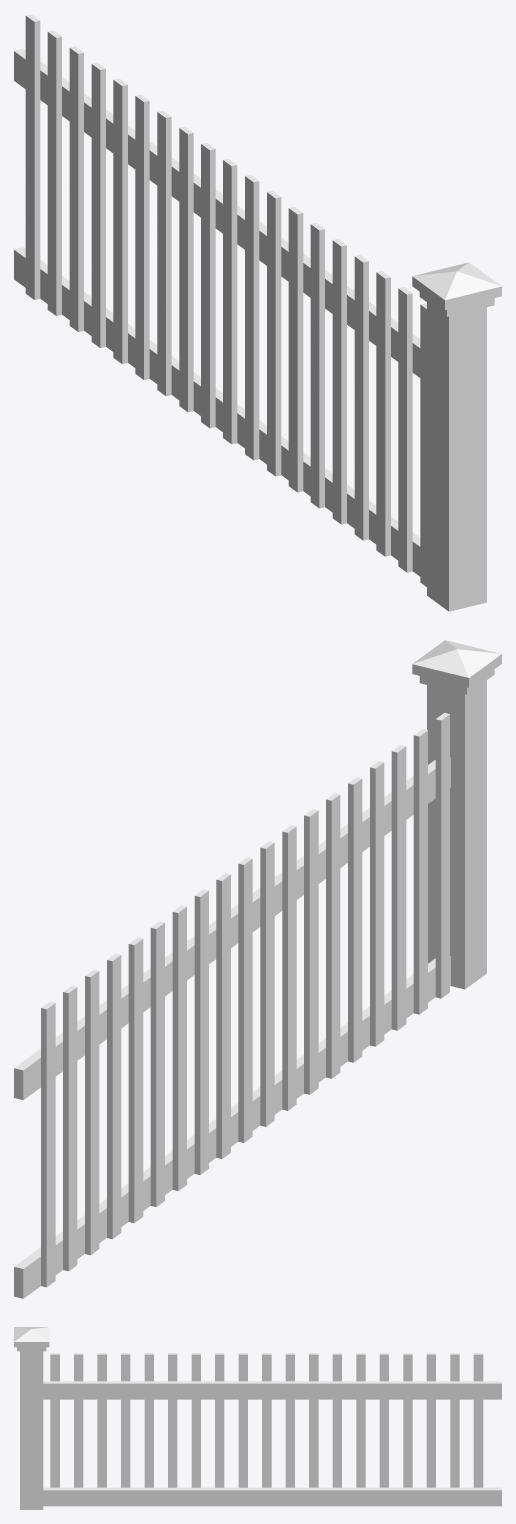
The model's file is SM_fence_101.gltf.
3 renders of one model, top to bottom at view 1: azimuth 30°, elevation 25°; view 2: azimuth 150°, elevation 25°; view 3: azimuth 270°, elevation 25°, orthographic. The views are drawn at different scales.
Parts seen in each view (by area): view 1: SM_fence_101; view 2: SM_fence_101; view 3: SM_fence_101.
Boxes of the visible parts, <box> form: SM_fence_101: <box>14,14,501,611</box>; SM_fence_101: <box>14,640,501,1298</box>; SM_fence_101: <box>14,1327,501,1509</box>.
Bounding box in the file's own units: 0.3 × 1.65 × 4.15.
Materials: 1 (1 with a texture image).
